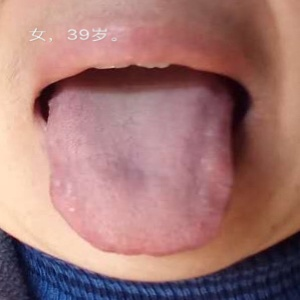st: (45, 97, 238, 257)
